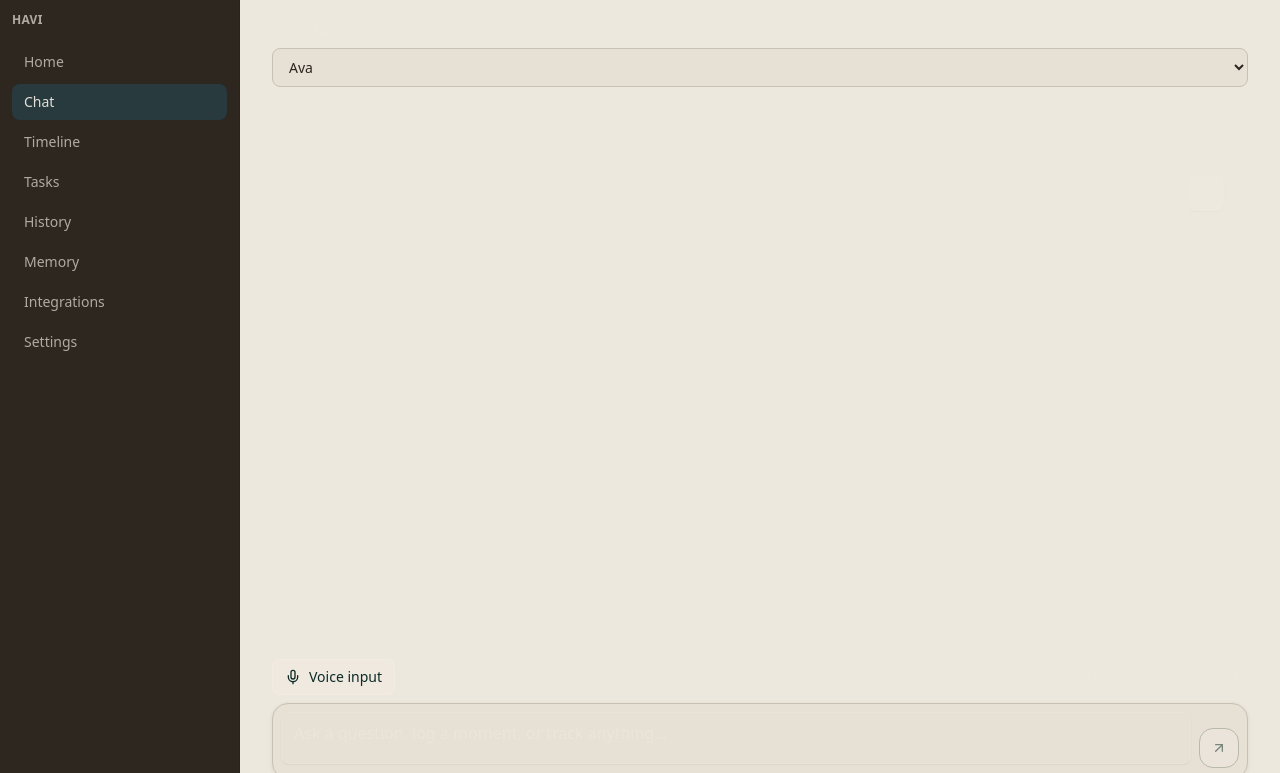
Test: Home zones – V1 foundations › shows only Last when minimal data is available
Click the button "Home". click: click(120, 62)
box: left=12, top=44, right=227, bottom=80
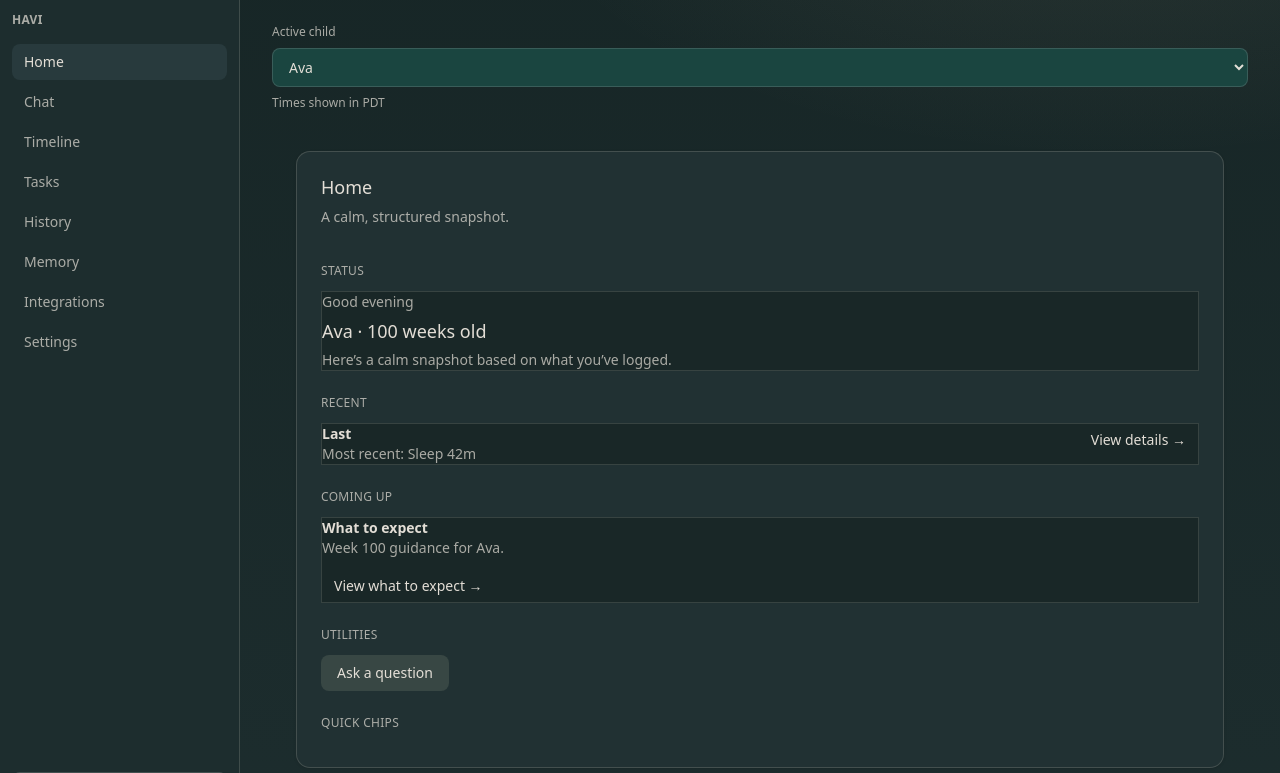
Result: the text "Last" is shown at left=322, top=424, right=351, bottom=443
